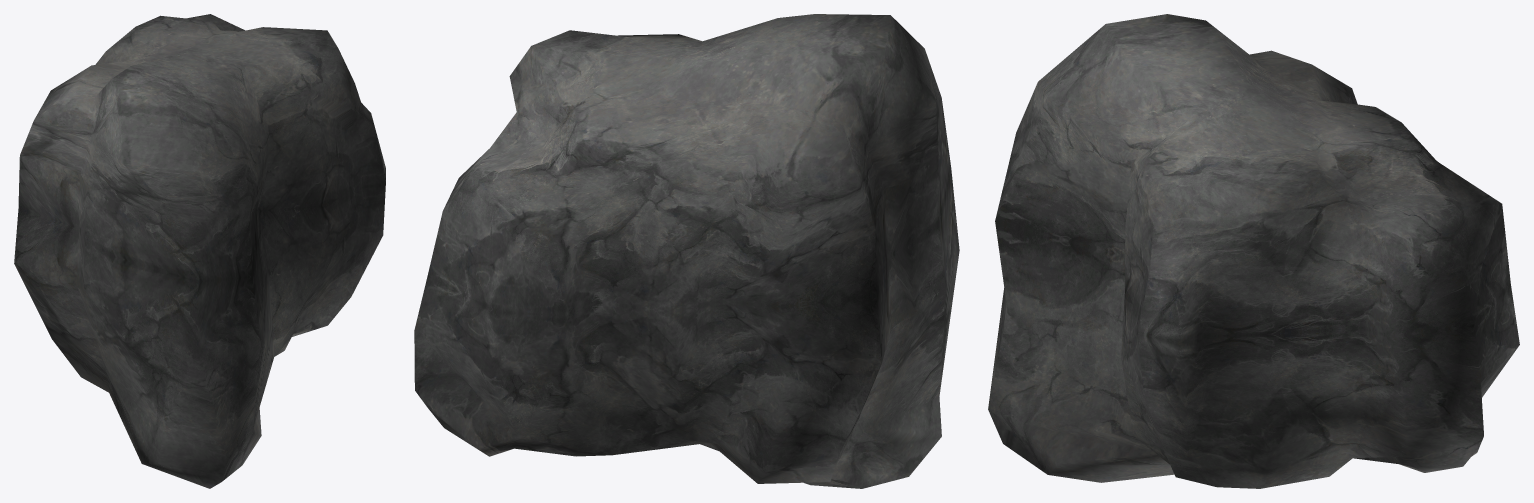
The model's file is warrock_b02.obj.
The picture shows the model from 3 angles, left to right: view 1: azimuth 30°, elevation 25°; view 2: azimuth 150°, elevation 25°; view 3: azimuth 270°, elevation 25°; orthographic projection. The views are drawn at different scales.
Visible parts, largest first — view 1: world/expansion07/doodads/8xp_warrock_b02.m2_Geoset_000; view 2: world/expansion07/doodads/8xp_warrock_b02.m2_Geoset_000; view 3: world/expansion07/doodads/8xp_warrock_b02.m2_Geoset_000.
Boxes of the visible parts, left/top/right/bottom form: world/expansion07/doodads/8xp_warrock_b02.m2_Geoset_000: left=14, top=14, right=385, bottom=488; world/expansion07/doodads/8xp_warrock_b02.m2_Geoset_000: left=414, top=14, right=959, bottom=488; world/expansion07/doodads/8xp_warrock_b02.m2_Geoset_000: left=988, top=14, right=1519, bottom=488.
Bounding box in the file's own units: 2.91 × 3.17 × 3.53.
Materials: 1 (1 with a texture image).
